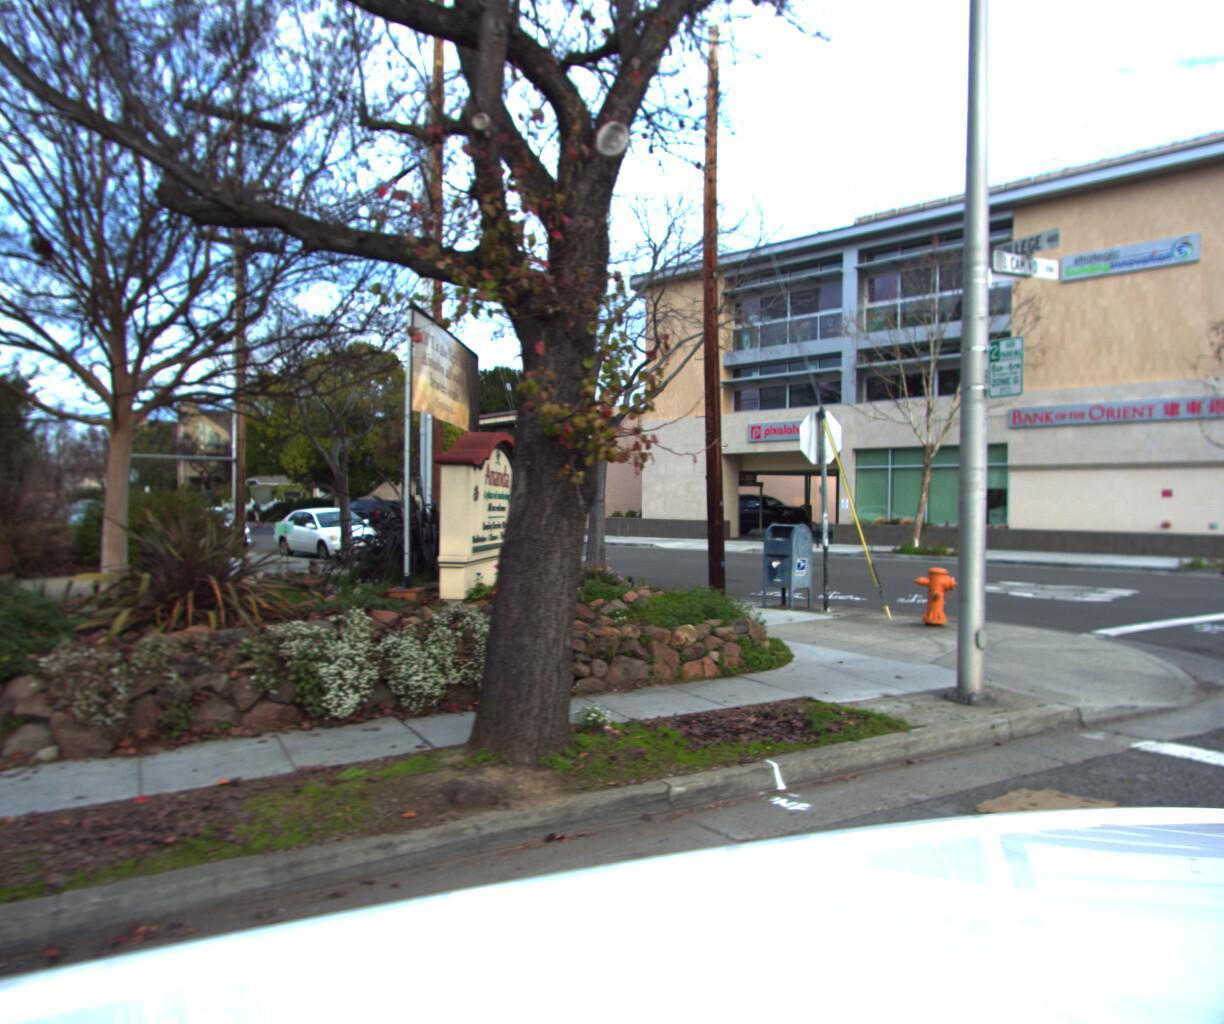car: (264, 503, 395, 562), (707, 490, 814, 533), (322, 495, 406, 534), (840, 500, 930, 530)
